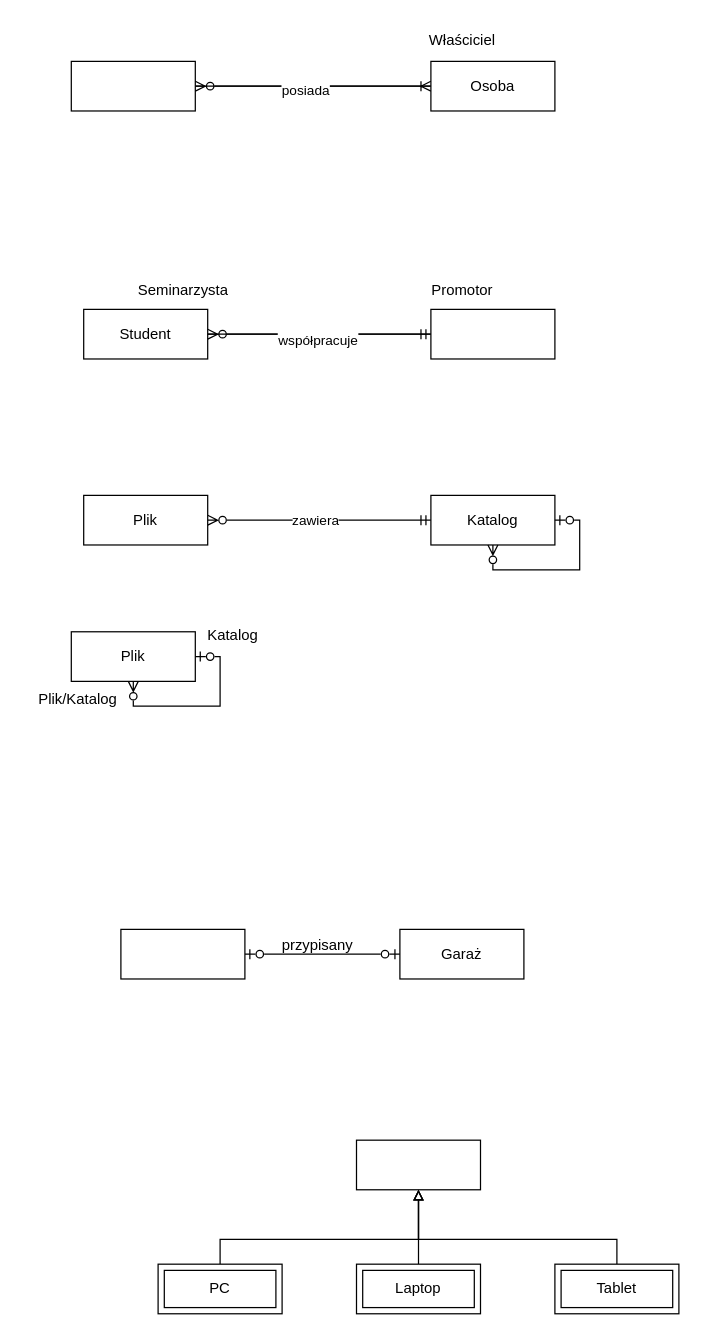
Some shapes in this 701 by 1335 pixel diagram are drawn without their labels. The shapes that lost their labels are listed below. From the top down, each one's box as (x1, y1, x2, y2) in pixels, then its label:
(70, 60, 195, 111): Samochód
(430, 308, 555, 359): Wykładowca
(120, 928, 245, 979): Mieszkanie
(355, 1139, 480, 1190): Komputer
